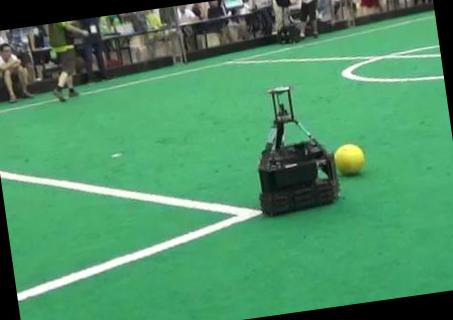ball: (334, 143, 364, 174)
person: (47, 21, 87, 101)
robot: (258, 85, 339, 215)
